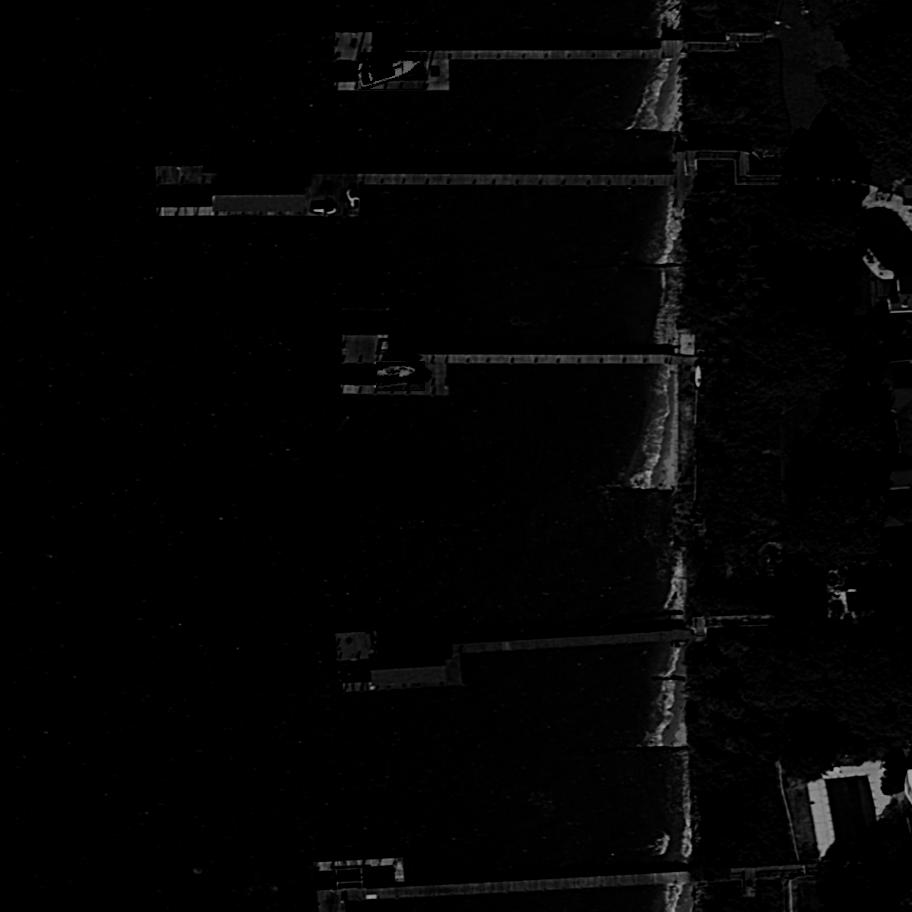ship: (357, 52, 426, 91), (376, 361, 426, 391)
